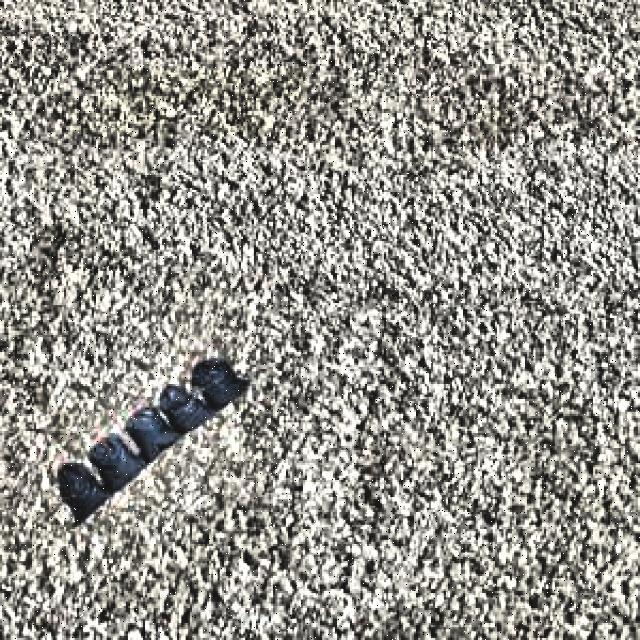Trashbag: (193, 355, 249, 406), (55, 467, 105, 522), (92, 437, 142, 487), (164, 388, 212, 427), (133, 413, 177, 455)
